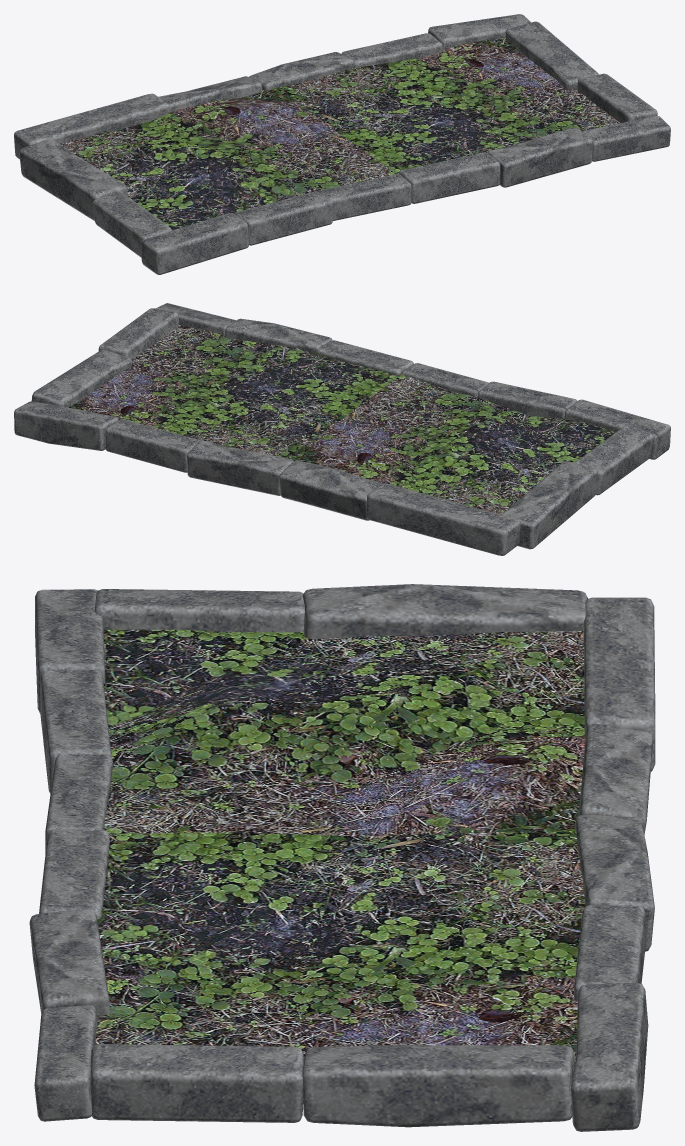
Rendered from Flowerbed_06.fbx.
3 renders of one model, top to bottom at view 1: azimuth 30°, elevation 25°; view 2: azimuth 150°, elevation 25°; view 3: azimuth 270°, elevation 25°, orthographic. The views are drawn at different scales.
Parts seen in each view (by area): view 1: Flowerbed_06_LOD0; view 2: Flowerbed_06_LOD0; view 3: Flowerbed_06_LOD0.
Boxes of the visible parts, <box> form: Flowerbed_06_LOD0: <box>14,14,670,274</box>; Flowerbed_06_LOD0: <box>14,303,670,555</box>; Flowerbed_06_LOD0: <box>29,584,655,1131</box>.
Size of what is drawn, in the model's own units: 150 by 10.31 by 79.92.
